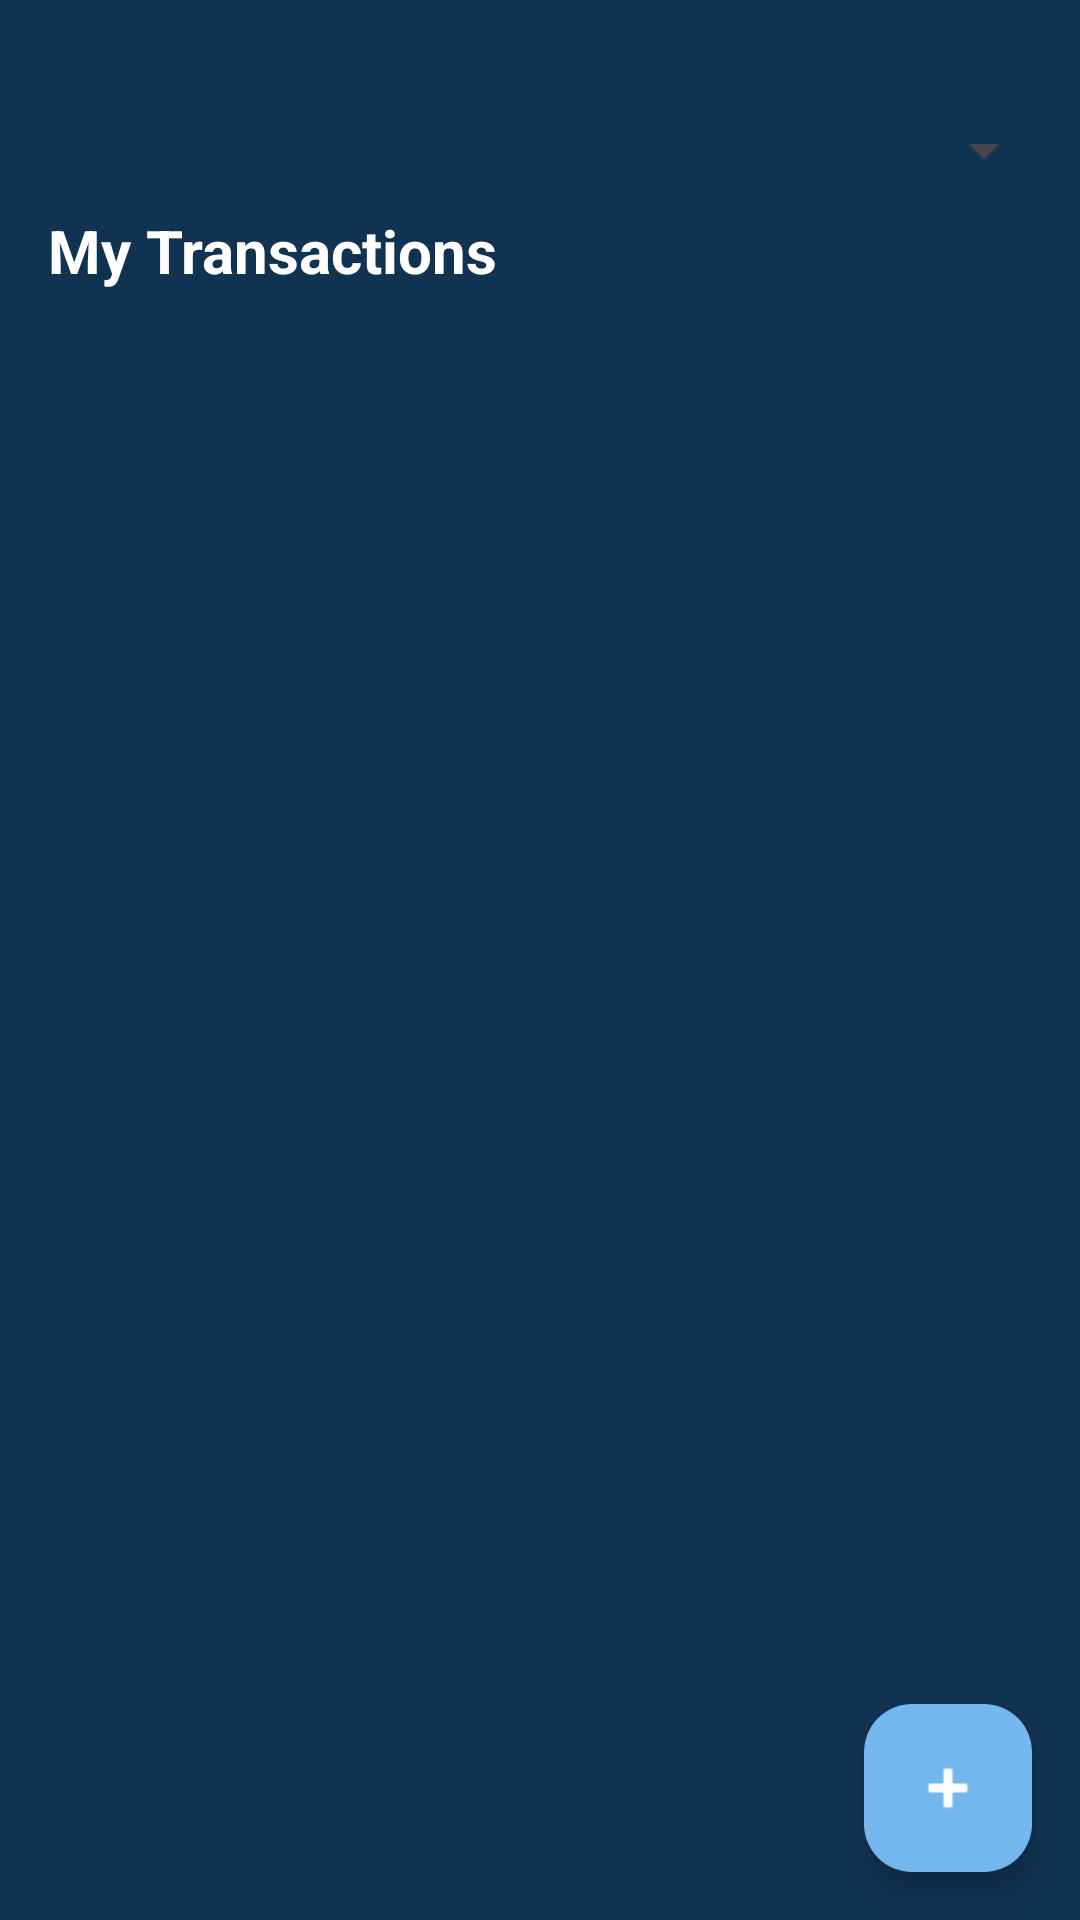

Where icons sit on this 1080px×1920px app screen, as BBox(x1, y1, x2, y2):
Add new transaction: BBox(864, 1704, 1032, 1872)
